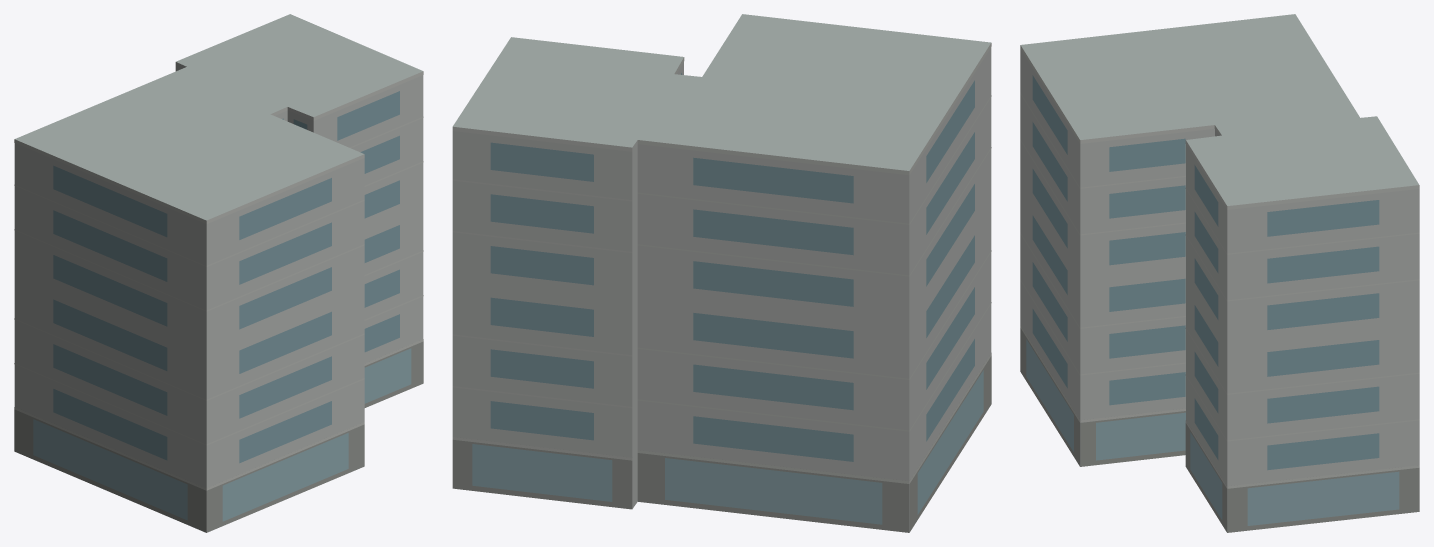
The model's file is survey-upis-32967954.glb.
The picture shows the model from 3 angles, left to right: view 1: azimuth 30°, elevation 25°; view 2: azimuth 150°, elevation 25°; view 3: azimuth 270°, elevation 25°; orthographic projection. The views are drawn at different scales.
Parts seen in each view (by area): view 1: survey-upis-32967954.tmp; view 2: survey-upis-32967954.tmp; view 3: survey-upis-32967954.tmp.
Boxes of the visible parts, <box> form: survey-upis-32967954.tmp: <box>14,14,423,532</box>; survey-upis-32967954.tmp: <box>452,14,991,532</box>; survey-upis-32967954.tmp: <box>1020,14,1419,532</box>.
Size of the model in its own units: 26.26 by 20.8 by 23.05.
